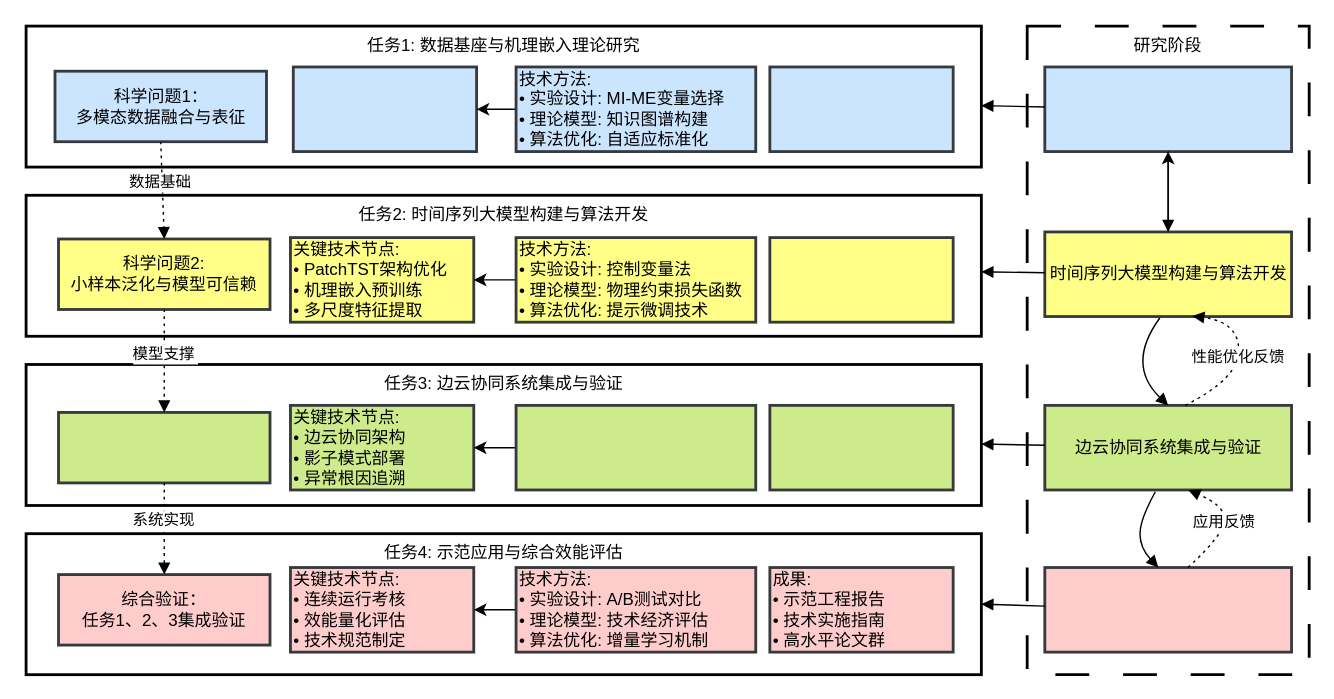
This 1334x699 diagram has some shape labels left out. Each missing label, with the centre of its shape:
关键技术节点: • 多源数据治理规范 • 机理约束表征学习 • 变量选择算法: point (384, 108)
技术方法: • 实验设计: 注入式故障测试 • 理论模型: 闭环智能系统 • 算法优化: 动态知识蒸馏: point (635, 447)
数据基座与机理嵌入理论研究: point (1167, 108)
示范应用与综合效能评估: point (1167, 609)
科学问题3： 系统安全部署与闭环控制: point (163, 447)
阶段性成果: • 原型系统V1.0 • 系统测试报告 • 软件著作权: point (861, 447)
阶段性成果: • 时间序列基座模型 • 发明专利1-2项 • 核心算法代码: point (861, 279)
阶段性成果: • 高质量数据集 • 数据治理SOP • 理论框架报告: point (861, 108)
